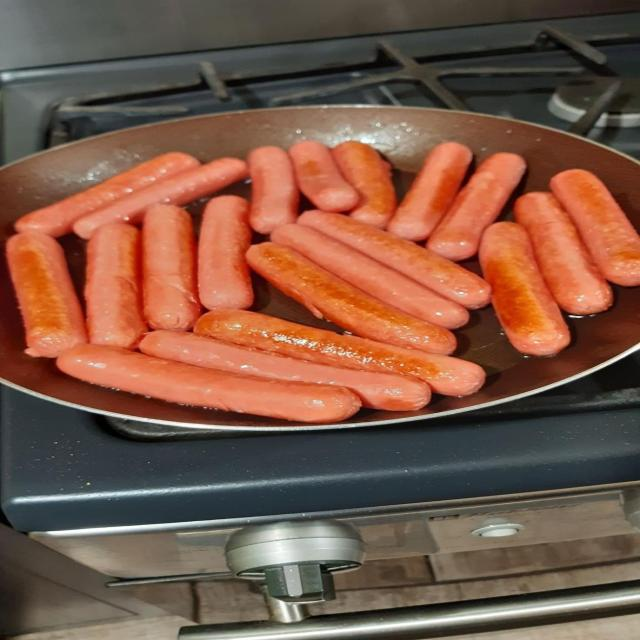sausage: (194, 310, 485, 395), (57, 345, 360, 422), (140, 331, 430, 411), (247, 243, 455, 354), (272, 225, 468, 328), (299, 211, 490, 308), (15, 152, 199, 236), (74, 158, 247, 238), (514, 192, 613, 315), (480, 223, 570, 356), (427, 153, 526, 261), (551, 169, 639, 286), (7, 232, 86, 357), (387, 142, 472, 241), (85, 224, 147, 348), (142, 205, 200, 329), (198, 196, 253, 309), (332, 141, 396, 228), (289, 141, 359, 211), (248, 147, 299, 234)
